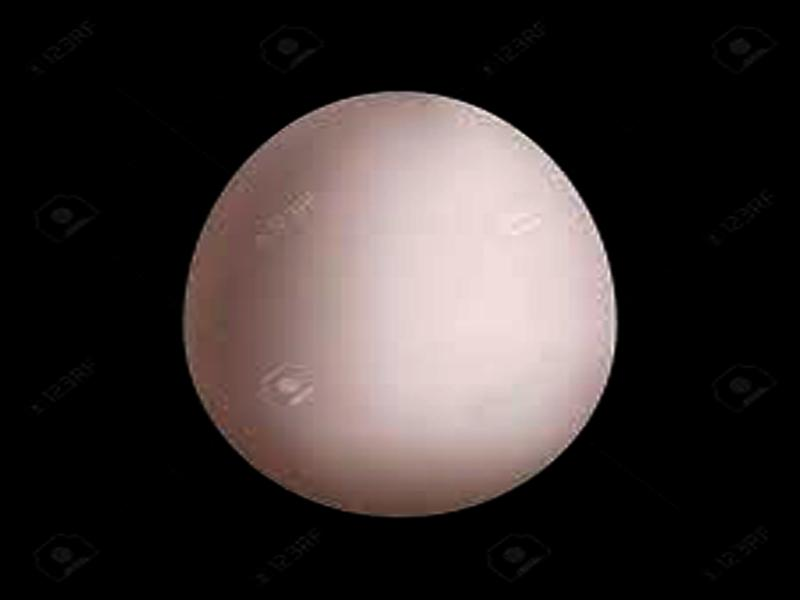Eggs: (188, 93, 615, 515)
